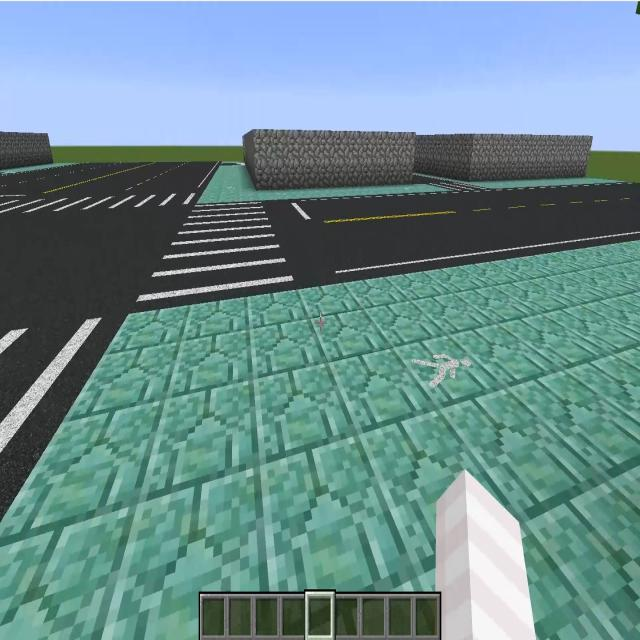crosswalk: (0, 320, 124, 523), (132, 202, 296, 312), (0, 190, 203, 213), (430, 183, 484, 192), (221, 161, 244, 163)
road: (264, 185, 640, 288), (0, 214, 183, 319), (0, 163, 220, 191), (416, 175, 451, 182)
sidewalk: (0, 242, 640, 639), (197, 166, 449, 203), (418, 173, 622, 188)
